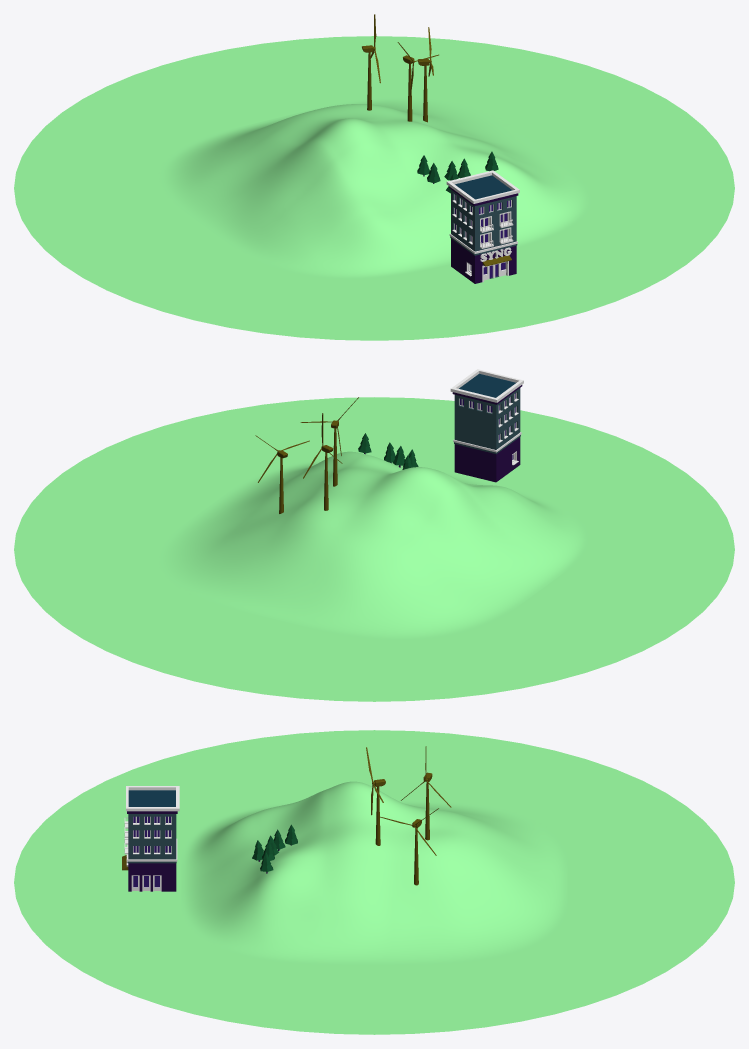
Rendered from city2.glb.
3 views of the same model, one above another, from view 1: azimuth 30°, elevation 25°; view 2: azimuth 150°, elevation 25°; view 3: azimuth 270°, elevation 25° (orthographic).
Parts seen in each view (by area): view 1: floor, Landscape010, Object017, Object016, Object018, Object019001, Object019; view 2: floor, Landscape010, Object016, Object018, Object017, Object019001; view 3: floor, Landscape010, Object016, Object017, Object018, Object019001, Object019.
Part boxes in pixels (left/top/right/bottom): floor: left=14, top=36, right=734, bottom=340; Landscape010: left=112, top=77, right=638, bottom=299; Object017: left=446, top=170, right=519, bottom=282; Object016: left=450, top=189, right=517, bottom=278; Object018: left=449, top=186, right=518, bottom=283; Object019001: left=455, top=175, right=512, bottom=199; Object019: left=455, top=194, right=510, bottom=277; floor: left=14, top=397, right=734, bottom=701; Landscape010: left=110, top=438, right=636, bottom=660; Object016: left=454, top=388, right=520, bottom=454; Object018: left=452, top=385, right=522, bottom=482; Object017: left=450, top=369, right=523, bottom=465; Object019001: left=459, top=373, right=516, bottom=397; floor: left=14, top=730, right=734, bottom=1034; Landscape010: left=181, top=781, right=567, bottom=964; Object016: left=127, top=814, right=176, bottom=863; Object017: left=124, top=786, right=179, bottom=891; Object018: left=127, top=811, right=177, bottom=891; Object019001: left=128, top=790, right=175, bottom=806; Object019: left=133, top=816, right=170, bottom=887.
Size of the model in its own units: 59.21 by 13.58 by 59.21.
